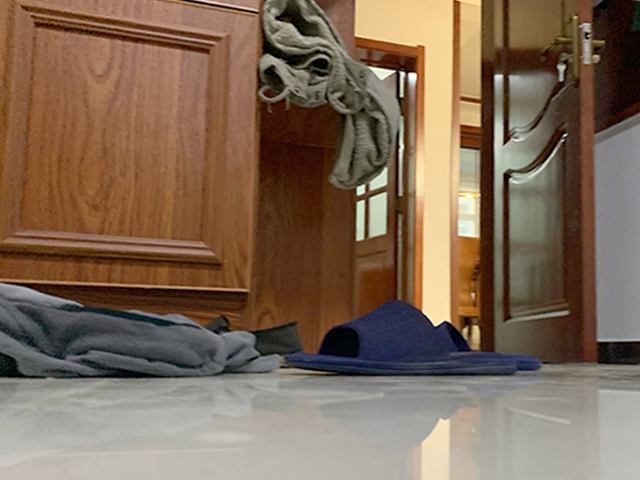cabinet: (2, 1, 264, 354)
slippers: (282, 299, 544, 377)
